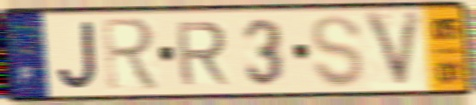3: (240, 16, 286, 89)
J: (55, 18, 101, 92)
R: (99, 15, 163, 93), (173, 19, 232, 88)
S: (309, 12, 367, 90)
V: (361, 7, 427, 93)
